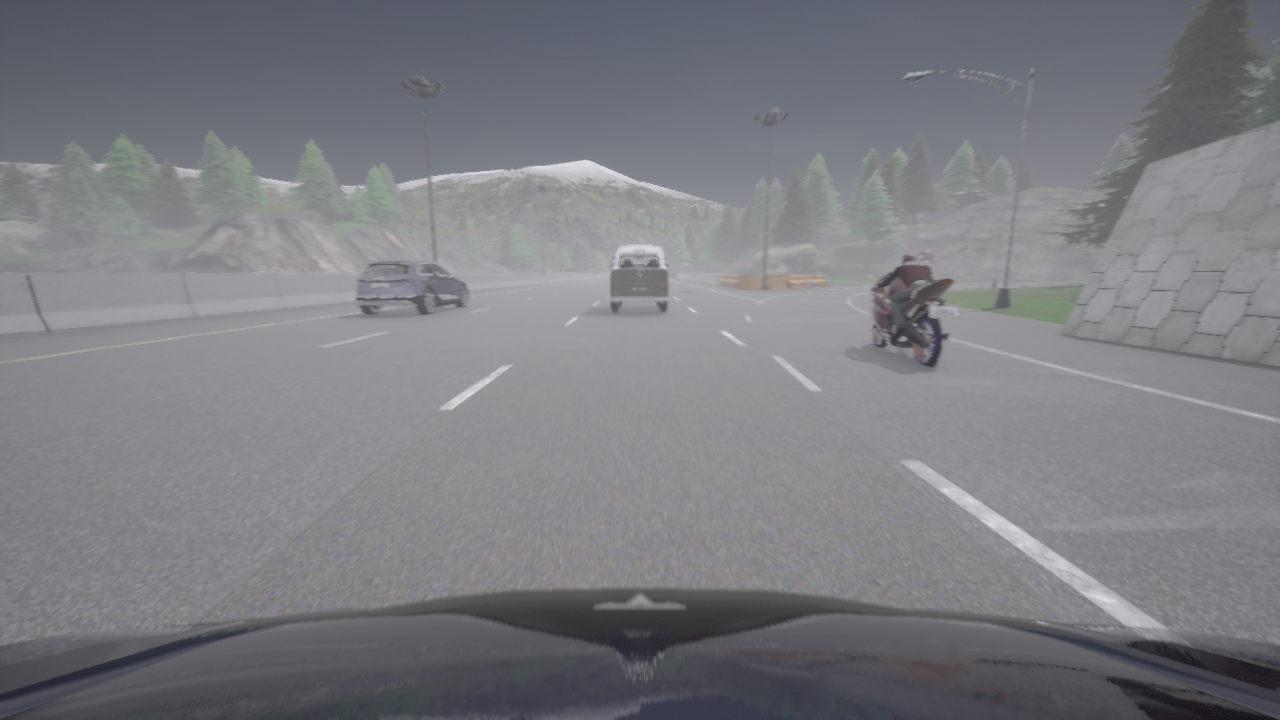cyclist: (0, 588, 1279, 719), (864, 272, 960, 368), (355, 259, 470, 315), (610, 246, 668, 312)
